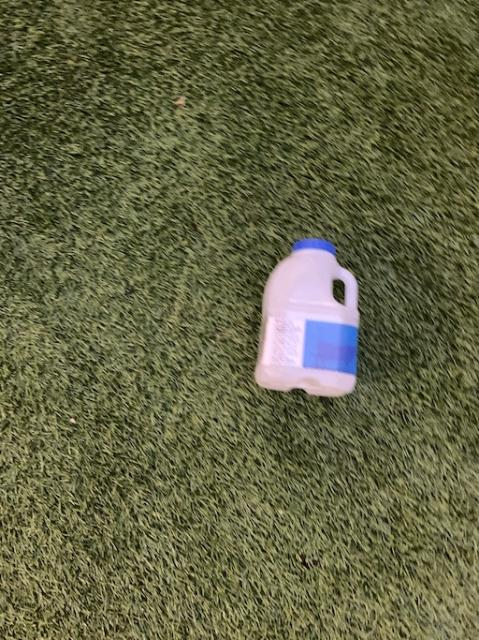plastic: (255, 238, 358, 394)
